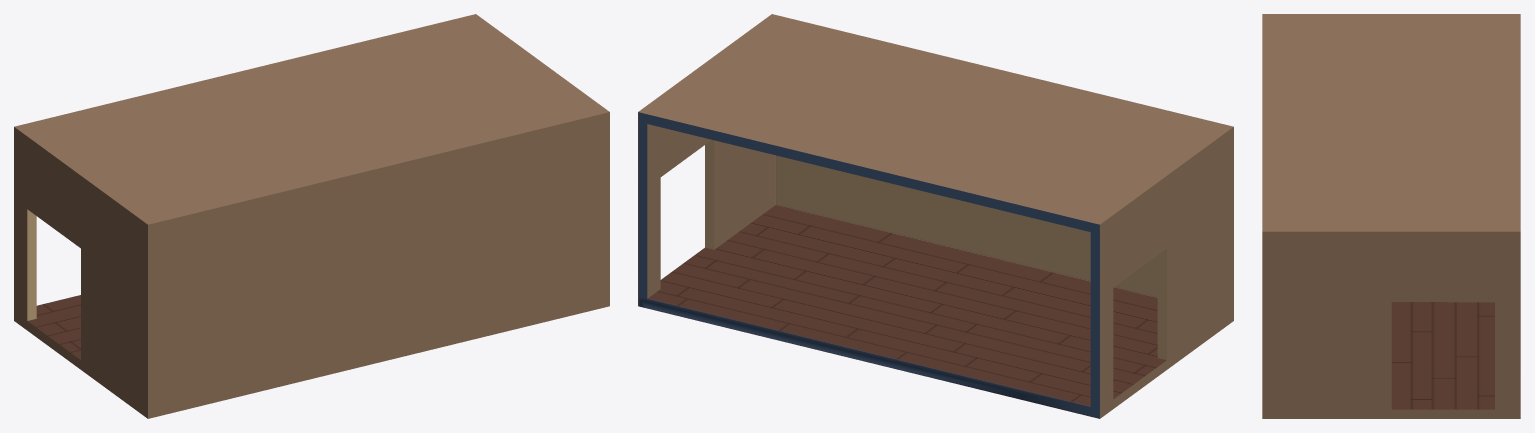
File: Hallway2UP_FBX.fbx
3 views of the same model, side by side, from view 1: azimuth 30°, elevation 25°; view 2: azimuth 150°, elevation 25°; view 3: azimuth 270°, elevation 25° (orthographic). The views are drawn at different scales.
Parts seen in each view (by area): view 1: Object; view 2: Object; view 3: Object.
Part boxes in pixels (x1=…): Object: x1=14, y1=14, x2=609, y2=418; Object: x1=638, y1=14, x2=1233, y2=418; Object: x1=1262, y1=14, x2=1520, y2=418.
Size of the model in its own units: 996 by 400 by 500.
